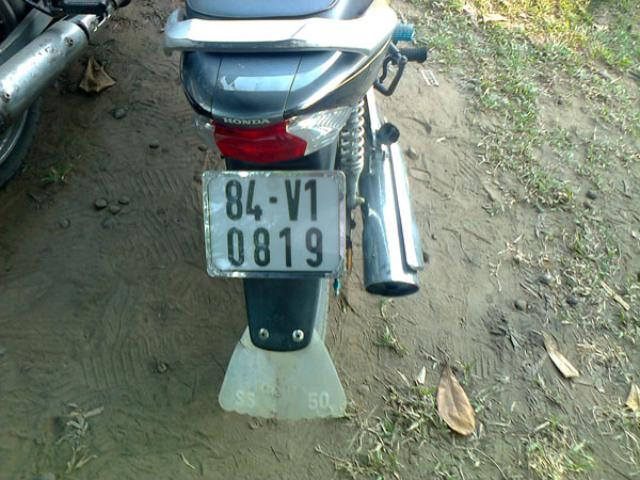plate: (205, 173, 347, 277)
